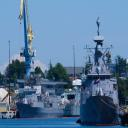Fragata: (80, 7, 120, 126)
